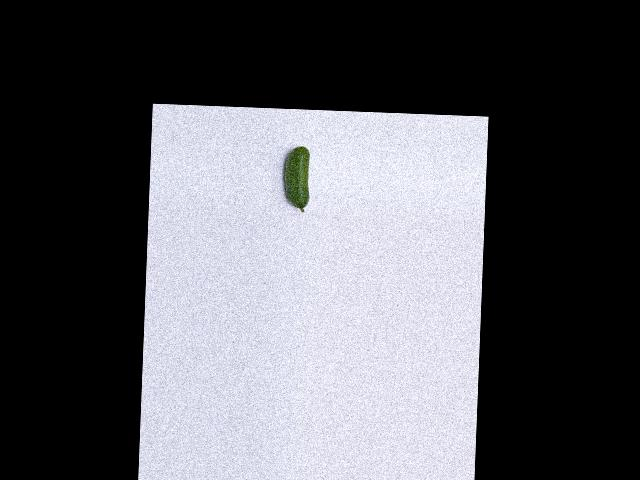cucumber: (283, 145, 310, 212)
